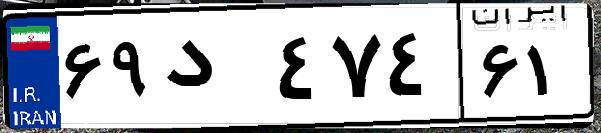1: (525, 38, 570, 115)
4: (270, 28, 330, 110), (385, 28, 445, 110)
6: (57, 26, 110, 100), (475, 38, 525, 113)
7: (330, 28, 385, 110)
9: (110, 28, 158, 98)
د: (158, 20, 270, 120)
